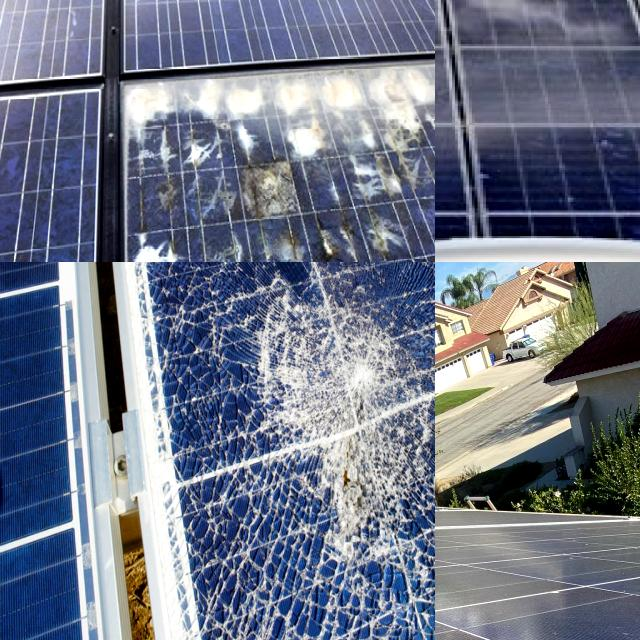hotspot: (244, 283, 435, 570), (128, 76, 435, 130), (339, 144, 430, 262), (234, 154, 302, 247), (122, 201, 173, 262)
panel: (435, 0, 640, 90)
